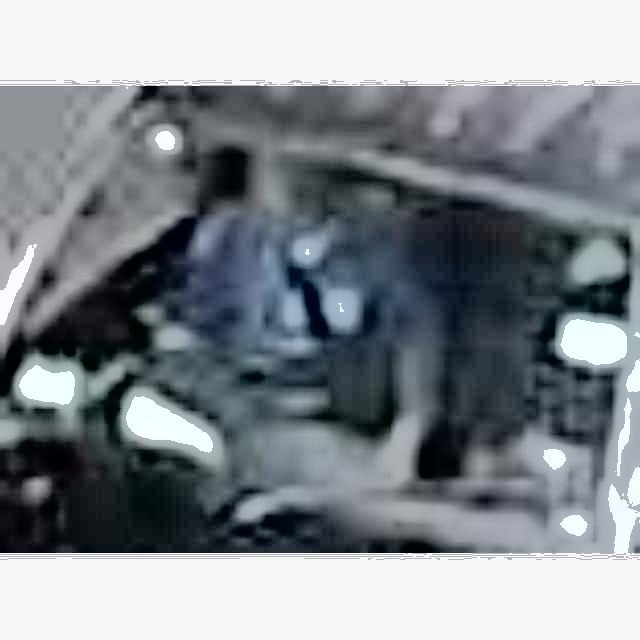tidak-pakai: (107, 193, 427, 447)
